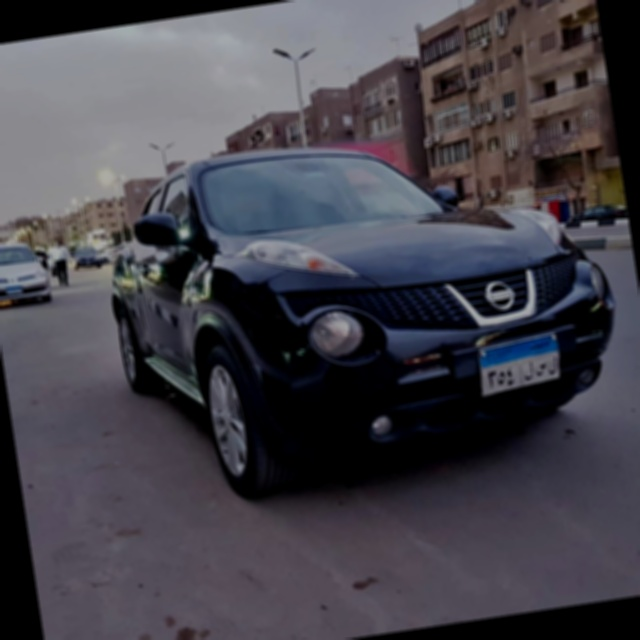License Plate: (473, 331, 570, 400)
